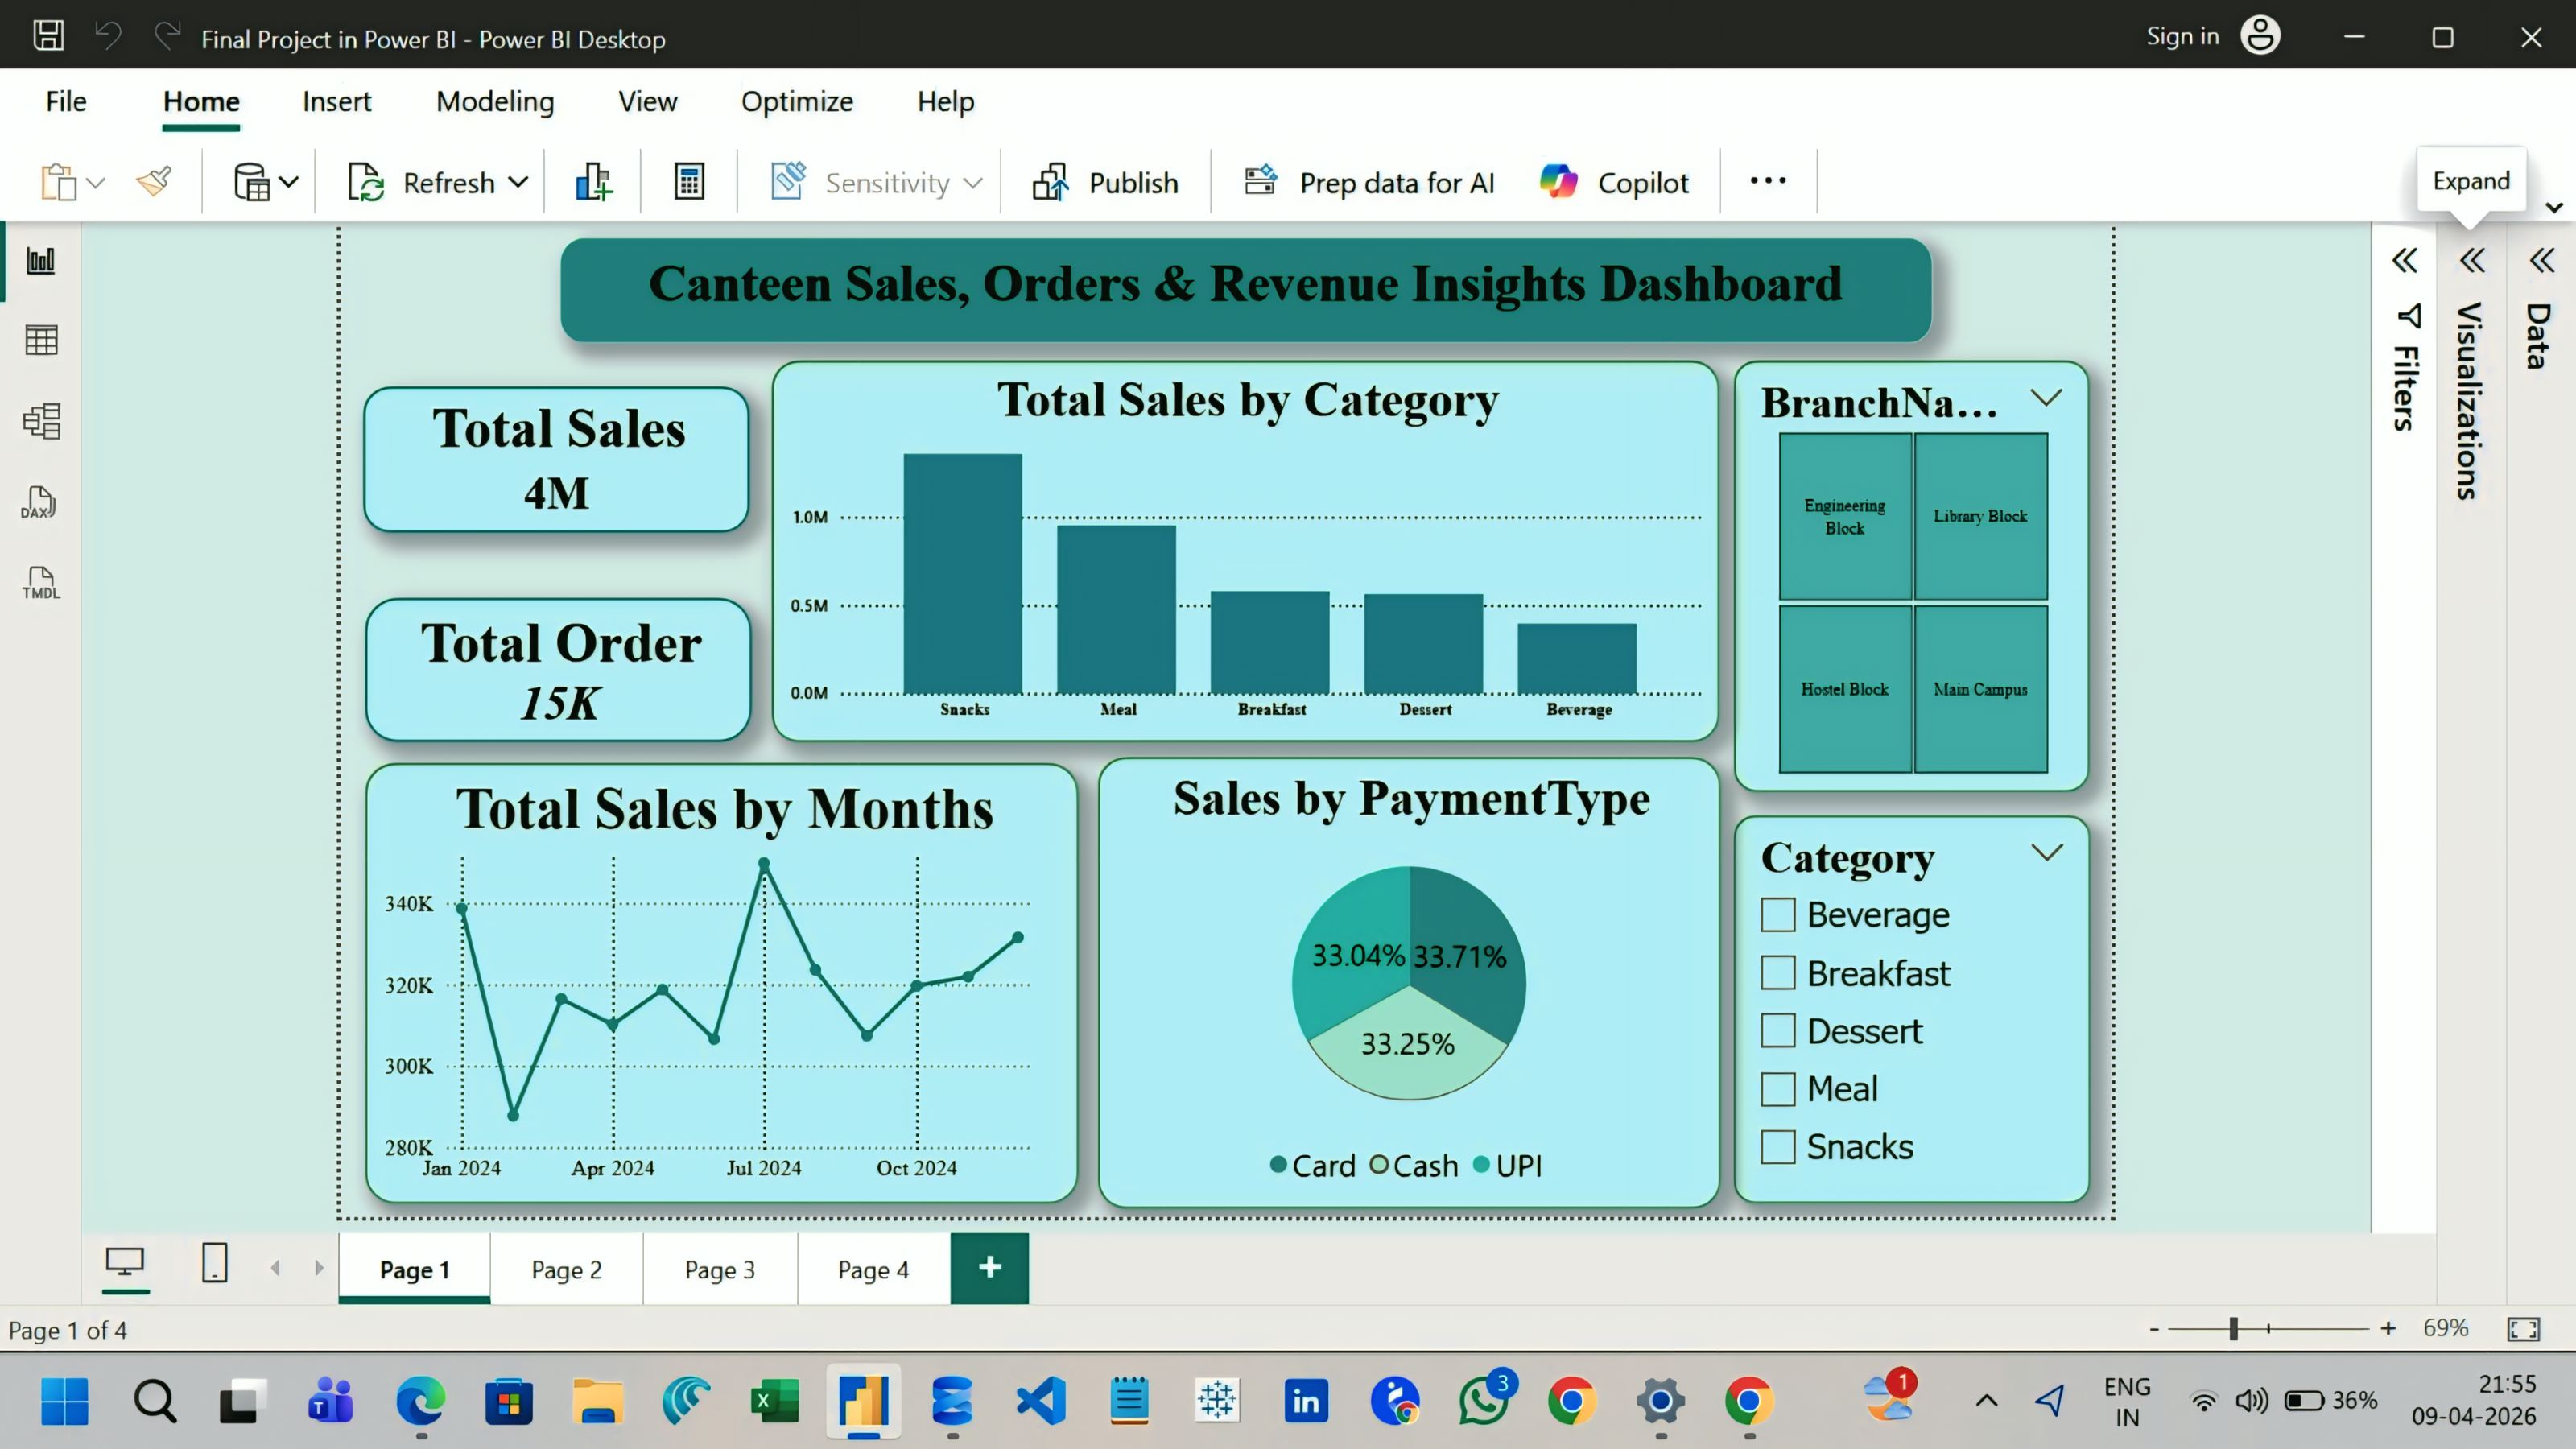

What the dashboard file says about the page in this screenshot:
{"tool":"powerbi","page":{"name":"Page 1","canvas":[1280,720],"ordinal":0},"visuals":[{"type":"card","title":"Total Sales","fields":{"Values":["Fact_Sales.Total Sales"]},"box":[17.8,19.4,280.1,108.5],"z":0},{"type":"card","title":"Total Order","fields":{"Values":["Fact_Sales.Total Orders"]},"box":[17.8,150.6,280.1,113.3],"z":1000},{"type":"columnChart","title":" Sales by Category","fields":{"Category":["Dim_Items.Category"],"Y":["Fact_Sales.Total Sales"]},"box":[313.4,19.7,345.2,281.6],"z":2000},{"type":"lineChart","title":"Sales by Date","fields":{"Y":["Fact_Sales.Total Sales"],"Category":["Dim_Date.Date.Variation.Date Hierarchy.Year","Dim_Date.Date.Variation.Date Hierarchy.Month"]},"box":[355.8,310.4,375.5,342.2],"z":3000},{"type":"pieChart","title":" Sales by PaymentType","fields":{"Category":["Dim_Payment.PaymentType"],"Y":["Fact_Sales.Total Sales"]},"box":[670,21.7,280,255],"z":4000},{"type":"treemap","title":" Sales by Category","fields":{"Group":["Dim_Items.Category"],"Values":["Fact_Sales.Total Sales"]},"box":[976.7,25,280,255],"z":5000},{"type":"slicer","fields":{"Values":["Dim_Branch.BranchName"]},"box":[742,301.3,257.4,212],"z":6000},{"type":"slicer","fields":{"Values":["Dim_Payment.PaymentType"]},"box":[1010,301.3,257.4,172.6],"z":7000},{"type":"slicer","fields":{"Values":["Dim_Items.Category"]},"box":[1010,483,257.4,222.6],"z":8000},{"type":"slicer","fields":{"Values":["Fact_Sales.CustomerType"]},"box":[742,528.5,257.4,177.2],"z":9000},{"type":"donutChart","title":" TotalAmount by CustomerType","fields":{"Category":["Fact_Sales.CustomerType"],"Y":["Sum(Fact_Sales.TotalAmount)"]},"box":[10,313,333,341],"z":10000}]}

Visuals, with their boxes on the page's 1280x720 design canvas (x1, y1, x2, y2). These are canvas units, not pixel positions in the 2576x1449 screenshot, which may show the page scaled, cropped or inside an application window:
"Total Sales" card: (left=18, top=19, right=298, bottom=128)
"Total Order" card: (left=18, top=151, right=298, bottom=264)
" Sales by Category" columnChart: (left=313, top=20, right=659, bottom=301)
"Sales by Date" lineChart: (left=356, top=310, right=731, bottom=653)
" Sales by PaymentType" pieChart: (left=670, top=22, right=950, bottom=277)
" Sales by Category" treemap: (left=977, top=25, right=1257, bottom=280)
slicer - Dim_Branch.BranchName: (left=742, top=301, right=999, bottom=513)
slicer - Dim_Payment.PaymentType: (left=1010, top=301, right=1267, bottom=474)
slicer - Dim_Items.Category: (left=1010, top=483, right=1267, bottom=706)
slicer - Fact_Sales.CustomerType: (left=742, top=528, right=999, bottom=706)
" TotalAmount by CustomerType" donutChart: (left=10, top=313, right=343, bottom=654)
